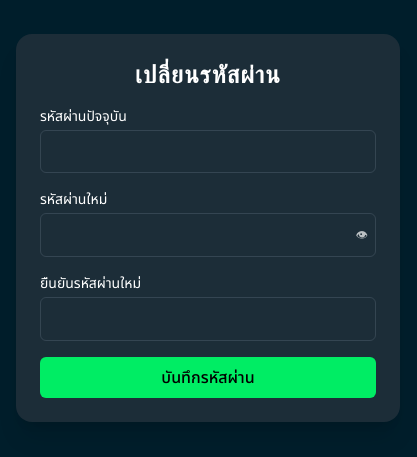
ChangePasswordPage error reporting › distinguishes a wrong current password from a dead session
expect the heading "เปลี่ยนรหัสผ่าน" is shown: met, box [135,59,281,89]
Type "wrong-one" into the password field labelled "รหัสผ่านปัจจุบัน" at (208, 152), box [40,130,376,173]
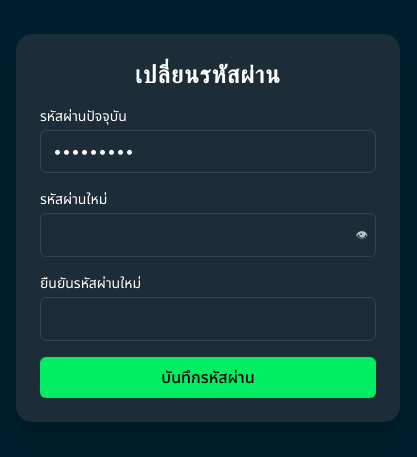
Type "BrandNewPass1" into the password field labelled "รหัสผ่านใหม่" at (208, 235), box [40,213,376,257]
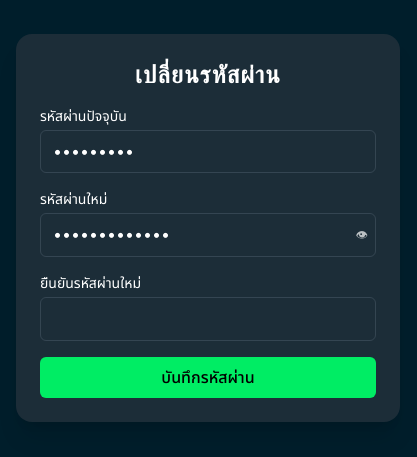
Type "BrandNewPass1" into the password field labelled "ยืนยันรหัสผ่านใหม่" at (208, 319), box [40,297,376,341]
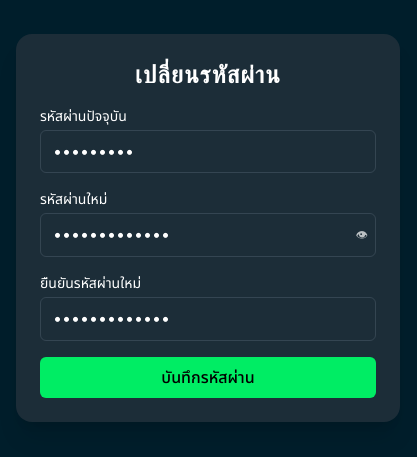
Click the button "บันทึกรหัสผ่าน" at (208, 377), box [40,357,376,398]
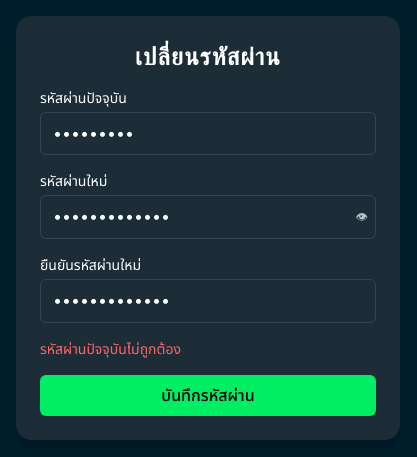
expect the message reads "รหัสผ่านปัจจุบันไม่ถูกต้อง": met, box [40,340,181,357]
